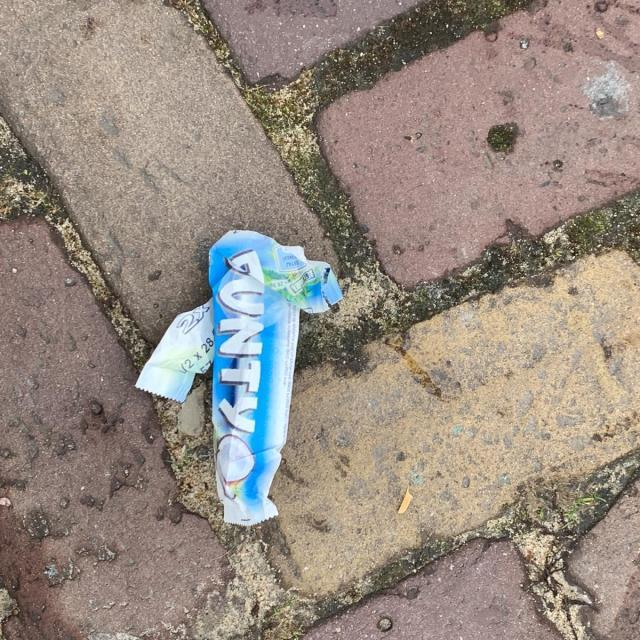Plastic: (132, 225, 344, 530)
